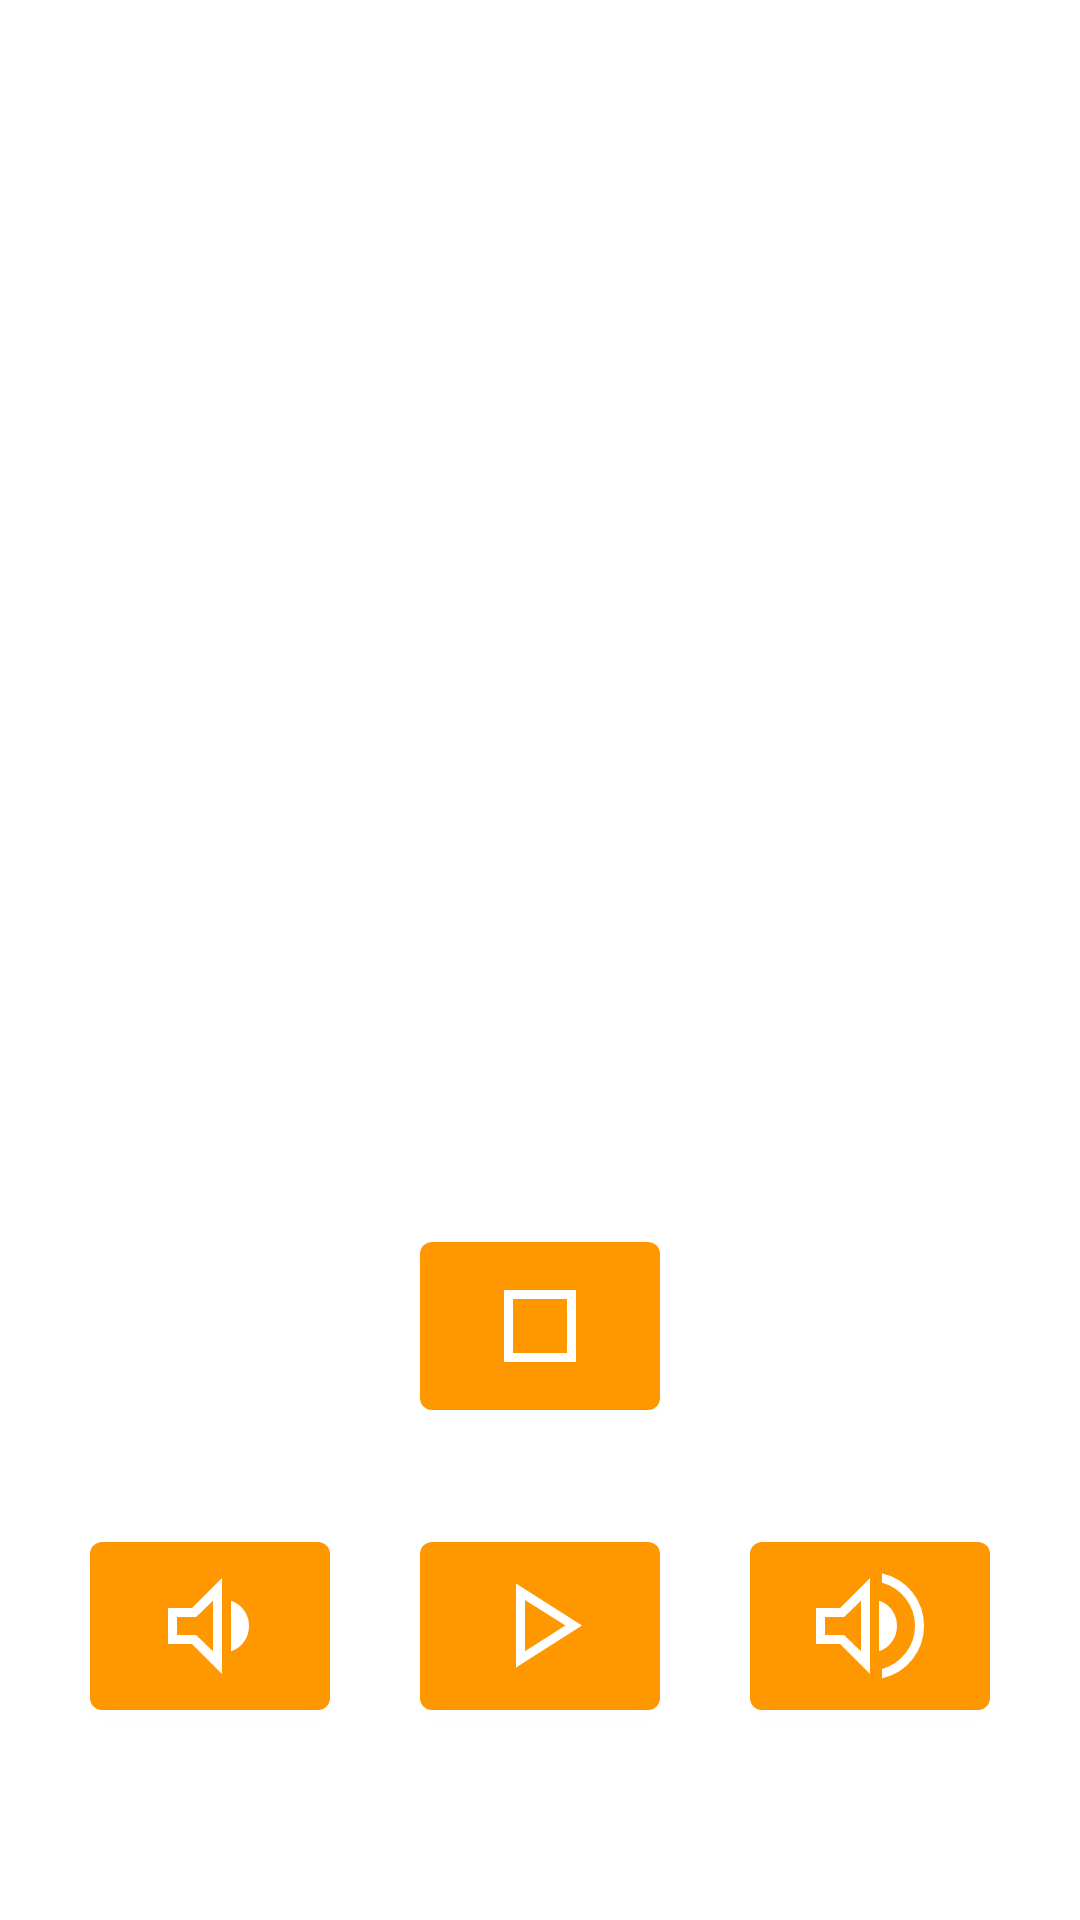

Screen size 1080px×1920px. Icon name, then its center in pixels as point (x, y):
play: point (540, 1626)
stop: point (540, 1326)
voldown: point (210, 1626)
volup: point (870, 1626)
